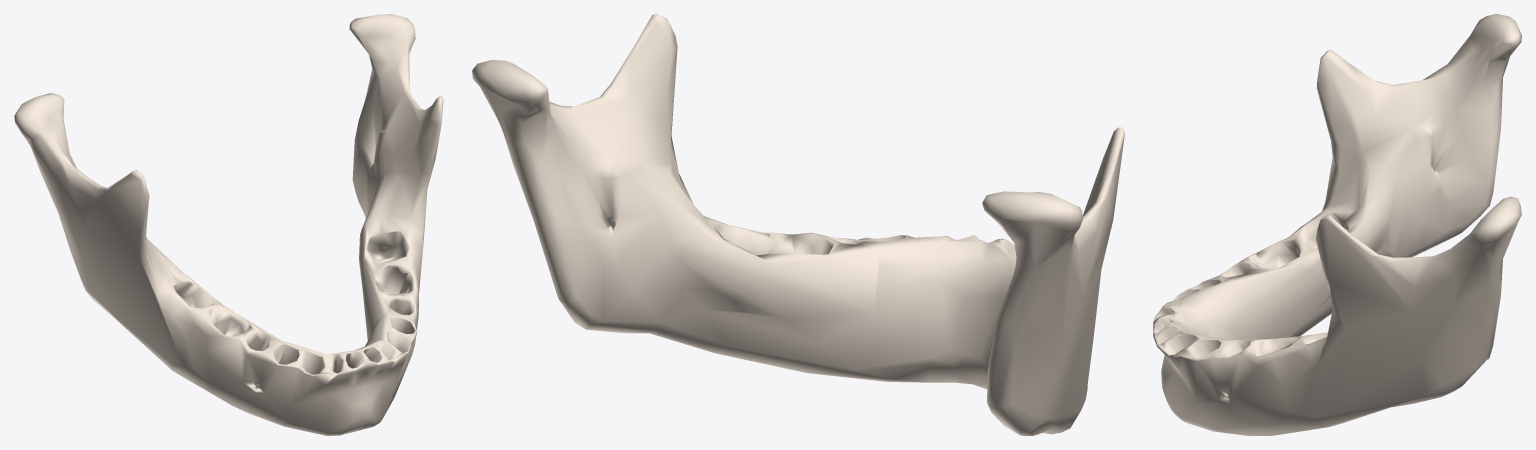
File: mandible.glb
The picture shows the model from 3 angles, left to right: view 1: azimuth 30°, elevation 25°; view 2: azimuth 150°, elevation 25°; view 3: azimuth 270°, elevation 25°; orthographic projection. The views are drawn at different scales.
Visible parts, largest first — view 1: Mandible bone; view 2: Mandible bone; view 3: Mandible bone.
Part boxes in pixels (<box>): Mandible bone: <box>14,14,443,435</box>; Mandible bone: <box>472,14,1124,435</box>; Mandible bone: <box>1153,14,1521,435</box>.
Size of the model in its own units: 0.1147 by 0.075 by 0.0835.
